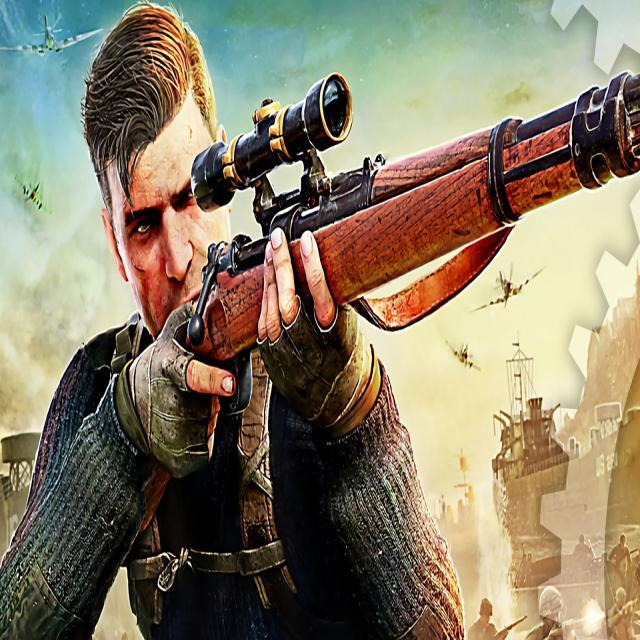scope: (188, 75, 358, 227)
sniper rifle: (91, 42, 640, 520)
